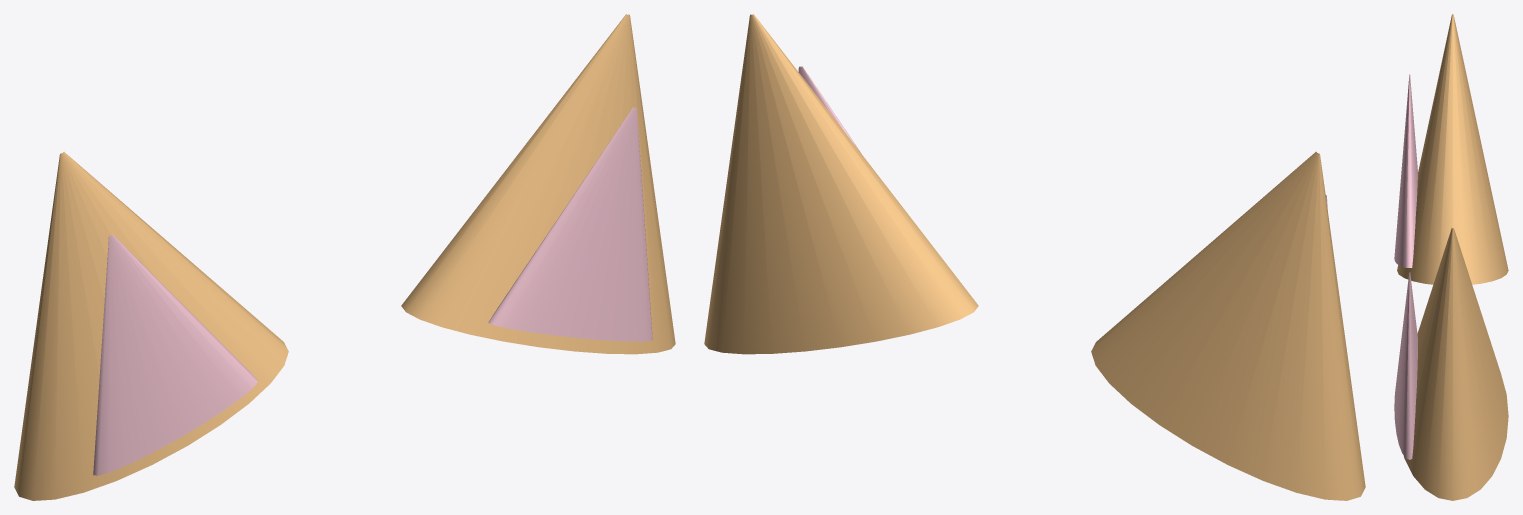
File: cat-ears.glb
The picture shows the model from 3 angles, left to right: view 1: azimuth 30°, elevation 25°; view 2: azimuth 150°, elevation 25°; view 3: azimuth 270°, elevation 25°; orthographic projection. The views are drawn at different scales.
Size of the model in its own units: 16.85 by 8.26 by 3.32.
